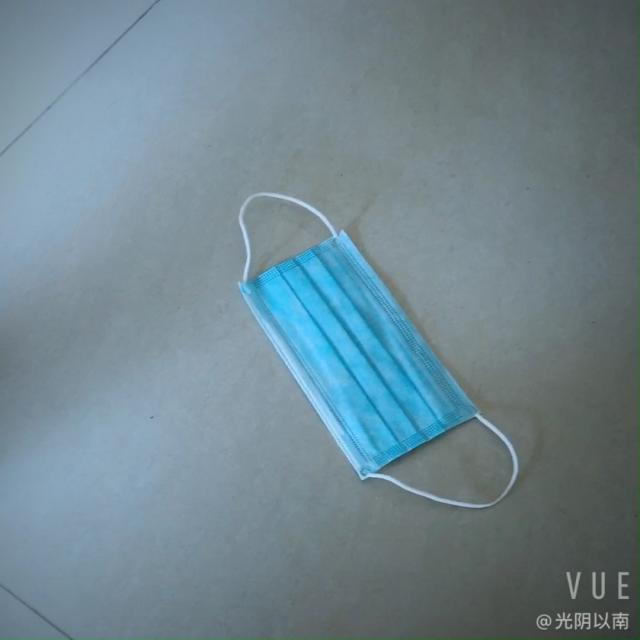face mask: (234, 222, 483, 478)
